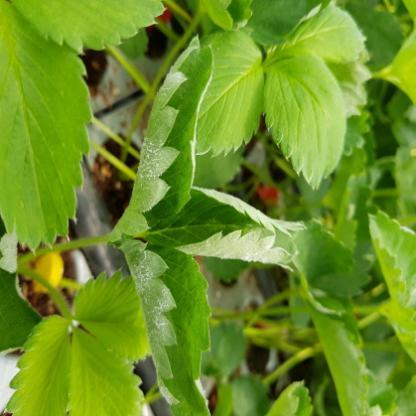Strawberry_Powdery_Mildew_Leaf: (108, 34, 216, 242), (112, 237, 214, 415), (136, 186, 307, 272)
